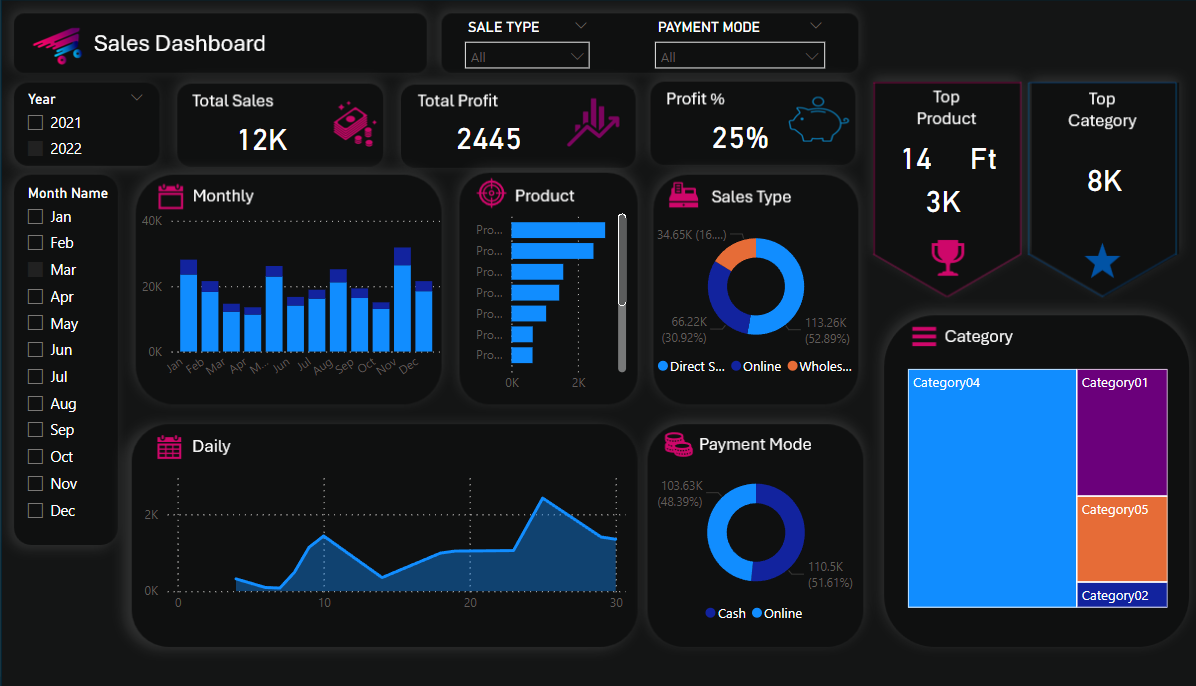

This screenshot's page, from the dashboard's own definition file:
{"tool":"powerbi","page":{"name":"Page 1","canvas":[1280,720],"ordinal":0},"visuals":[{"type":"slicer","fields":{"Values":["InputData.Month Name"]},"box":[49.5,190.9,141.4,392.9],"z":0},{"type":"slicer","fields":{"Values":["InputData.Year"]},"box":[49.7,95.8,141.9,85.1],"z":1000},{"type":"slicer","fields":{"Values":["InputData.SALE TYPE"]},"box":[493.9,23.1,146.3,59.4],"z":2000},{"type":"slicer","fields":{"Values":["InputData.PAYMENT MODE"]},"box":[686.3,23.1,191.5,59.4],"z":3000},{"type":"card","fields":{"Values":["Sum(InputData.Total Selling Value)"]},"box":[216.4,103.7,164.9,86.9],"z":4000},{"type":"card","fields":{"Values":["InputData.Profit"]},"box":[445.1,103.7,165.8,85.1],"z":5000},{"type":"card","fields":{"Values":["InputData.Profit %"]},"box":[699.6,102.9,164,86],"z":6000},{"type":"card","fields":{"Values":["Sum(InputData.QUANTITY)"]},"box":[876.9,123.3,164.9,86.9],"z":7000},{"type":"card","fields":{"Values":["Min(InputData.MasterData.UOM)"]},"box":[946.5,124.2,162.6,84.8],"z":8000},{"type":"card","fields":{"Values":["Sum(InputData.Total Selling Value)"]},"box":[905.3,166.7,164,86.9],"z":9000},{"type":"card","fields":{"Values":["Sum(InputData.Total Selling Value)"]},"box":[1081.8,145.5,136.4,86.9],"z":10000},{"type":"columnChart","fields":{"Category":["InputData.Month Name"],"Y":["Sum(InputData.Total Selling Value)","InputData.Profit"]},"box":[172.7,218.2,312.1,202],"z":11000},{"type":"clusteredBarChart","fields":{"Y":["Sum(InputData.Total Selling Value)"],"Category":["InputData.MasterData.PRODUCT"]},"box":[493.9,212.1,177.8,202],"z":12000},{"type":"stackedAreaChart","fields":{"Y":["Sum(InputData.Total Selling Value)"],"Category":["InputData.Day"]},"box":[174.7,476.2,496.6,160.5],"z":13000},{"type":"donutChart","fields":{"Category":["InputData.SALE TYPE"],"Y":["Sum(InputData.Total Selling Value)"]},"box":[690.9,228.3,214.1,169.7],"z":14000},{"type":"donutChart","fields":{"Category":["InputData.PAYMENT MODE"],"Y":["Sum(InputData.Total Selling Value)"]},"box":[690.9,475.8,214.1,171.7],"z":15000},{"type":"treemap","fields":{"Group":["InputData.MasterData.CATEGORY"],"Values":["Sum(InputData.Total Selling Value)"]},"box":[946.1,376.8,272.2,250.9],"z":16000}]}

Visuals, with their boxes in screenshot pixels (x1, y1, x2, y2), scaled from the page's 1280x720 canvas onto the 1196x686 screenshot:
slicer - InputData.Month Name: BBox(46, 182, 178, 556)
slicer - InputData.Year: BBox(46, 91, 179, 172)
slicer - InputData.SALE TYPE: BBox(461, 22, 598, 79)
slicer - InputData.PAYMENT MODE: BBox(641, 22, 820, 79)
card - Sum(InputData.Total Selling Value): BBox(202, 99, 356, 182)
card - InputData.Profit: BBox(416, 99, 571, 180)
card - InputData.Profit %: BBox(654, 98, 807, 180)
card - Sum(InputData.QUANTITY): BBox(819, 117, 973, 200)
card - Min(InputData.MasterData.UOM): BBox(884, 118, 1036, 199)
card - Sum(InputData.Total Selling Value): BBox(846, 159, 999, 242)
card - Sum(InputData.Total Selling Value): BBox(1011, 139, 1138, 221)
columnChart - InputData.Month Name x Sum(InputData.Total Selling Value): BBox(161, 208, 453, 400)
clusteredBarChart - Sum(InputData.Total Selling Value) x InputData.MasterData.PRODUCT: BBox(461, 202, 628, 395)
stackedAreaChart - Sum(InputData.Total Selling Value) x InputData.Day: BBox(163, 454, 627, 607)
donutChart - InputData.SALE TYPE x Sum(InputData.Total Selling Value): BBox(646, 218, 846, 379)
donutChart - InputData.PAYMENT MODE x Sum(InputData.Total Selling Value): BBox(646, 453, 846, 617)
treemap - InputData.MasterData.CATEGORY x Sum(InputData.Total Selling Value): BBox(884, 359, 1138, 598)
